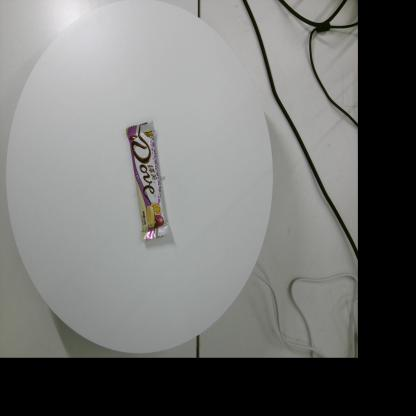Chocolate: (126, 121, 169, 242)
